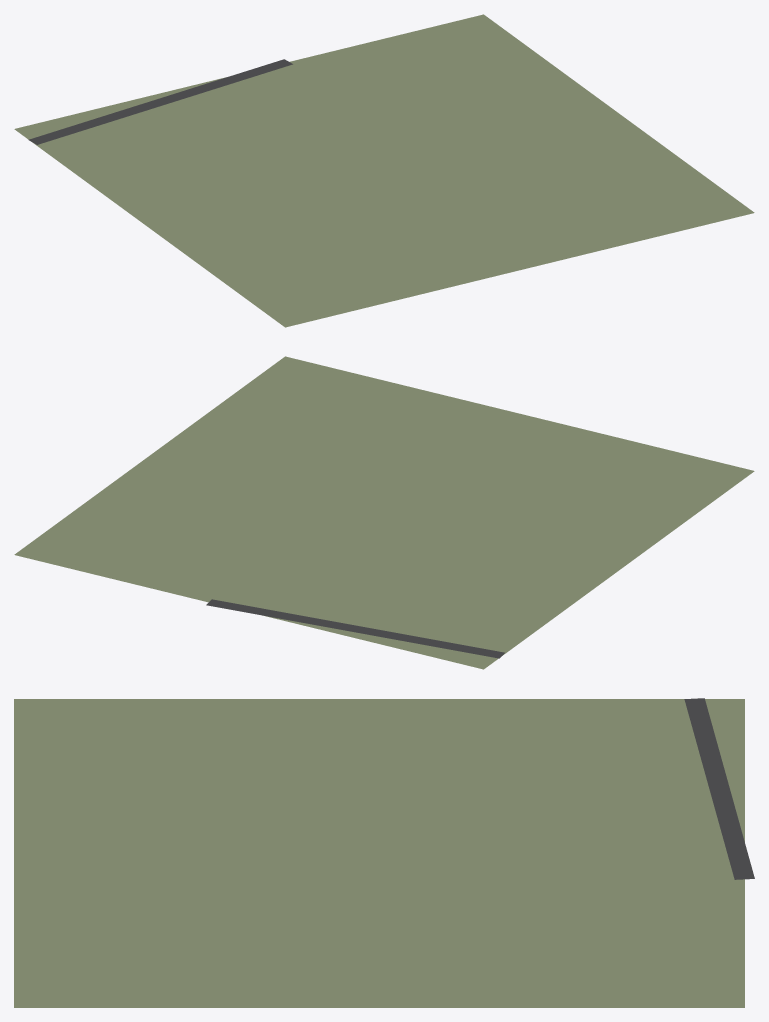
3 views of the same model, one above another, from view 1: azimuth 30°, elevation 25°; view 2: azimuth 150°, elevation 25°; view 3: azimuth 270°, elevation 25° (orthographic). The views are drawn at different scales.
Parts seen in each view (by area): view 1: ground, road; view 2: ground, road; view 3: ground, road.
Part boxes in pixels (left/top/right/bottom): ground: left=14, top=14, right=754, bottom=327; road: left=28, top=59, right=292, bottom=144; ground: left=14, top=356, right=754, bottom=669; road: left=206, top=599, right=504, bottom=658; ground: left=14, top=699, right=744, bottom=1007; road: left=684, top=698, right=754, bottom=879.
Size of the model in its own units: 250 by 0.12 by 253.
